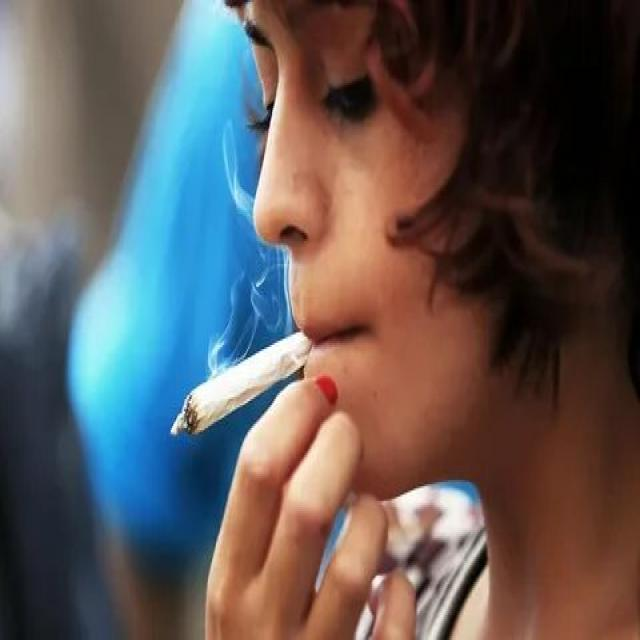smoke: (168, 320, 319, 451)
